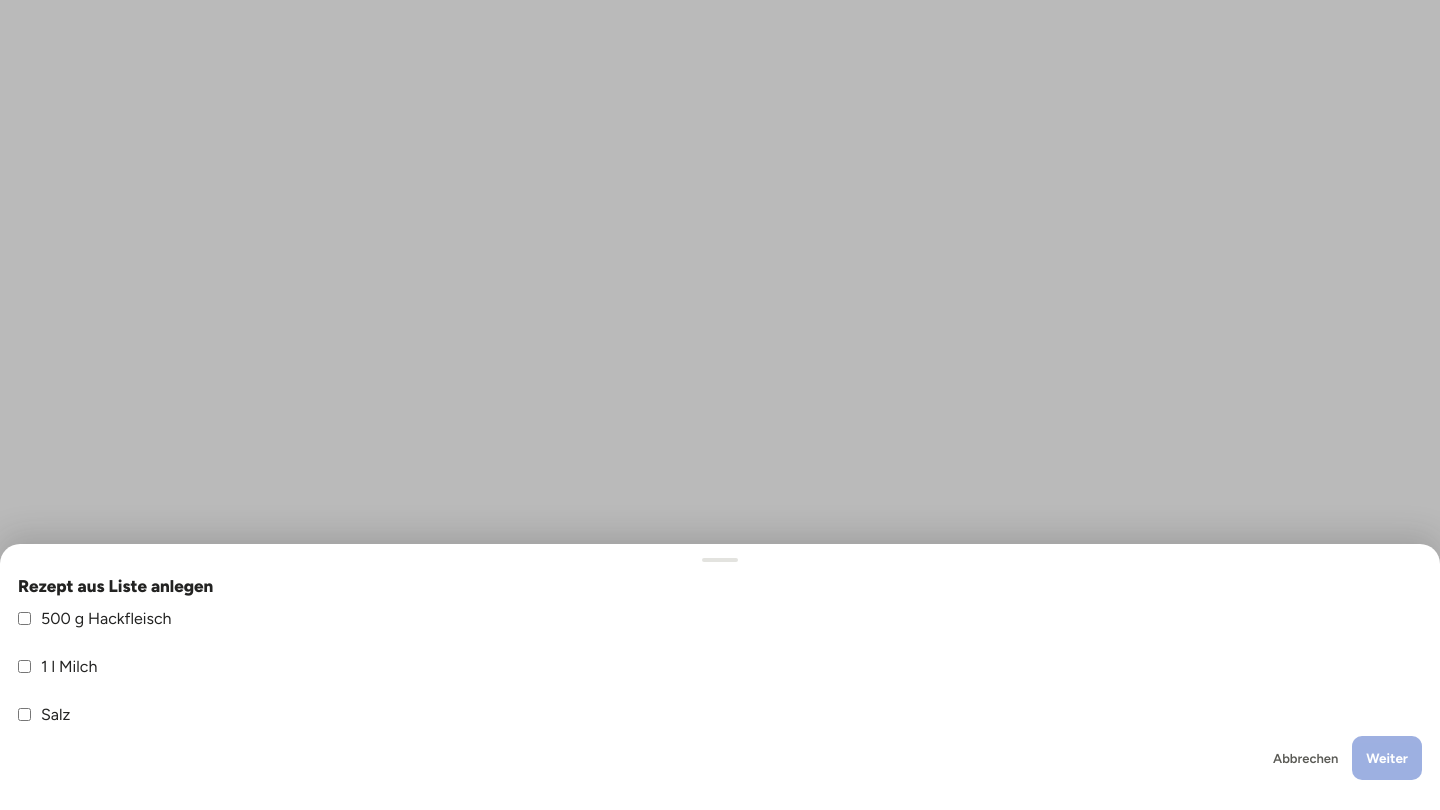
Test case: DeriveRecipeSheet › keeps „Weiter“ disabled until something is ticked
Expected: the button "Weiter" is disabled, [1352,736,1422,780]
Click the checkbox labelled "1 l Milch": (24, 666) [18,660,31,672]
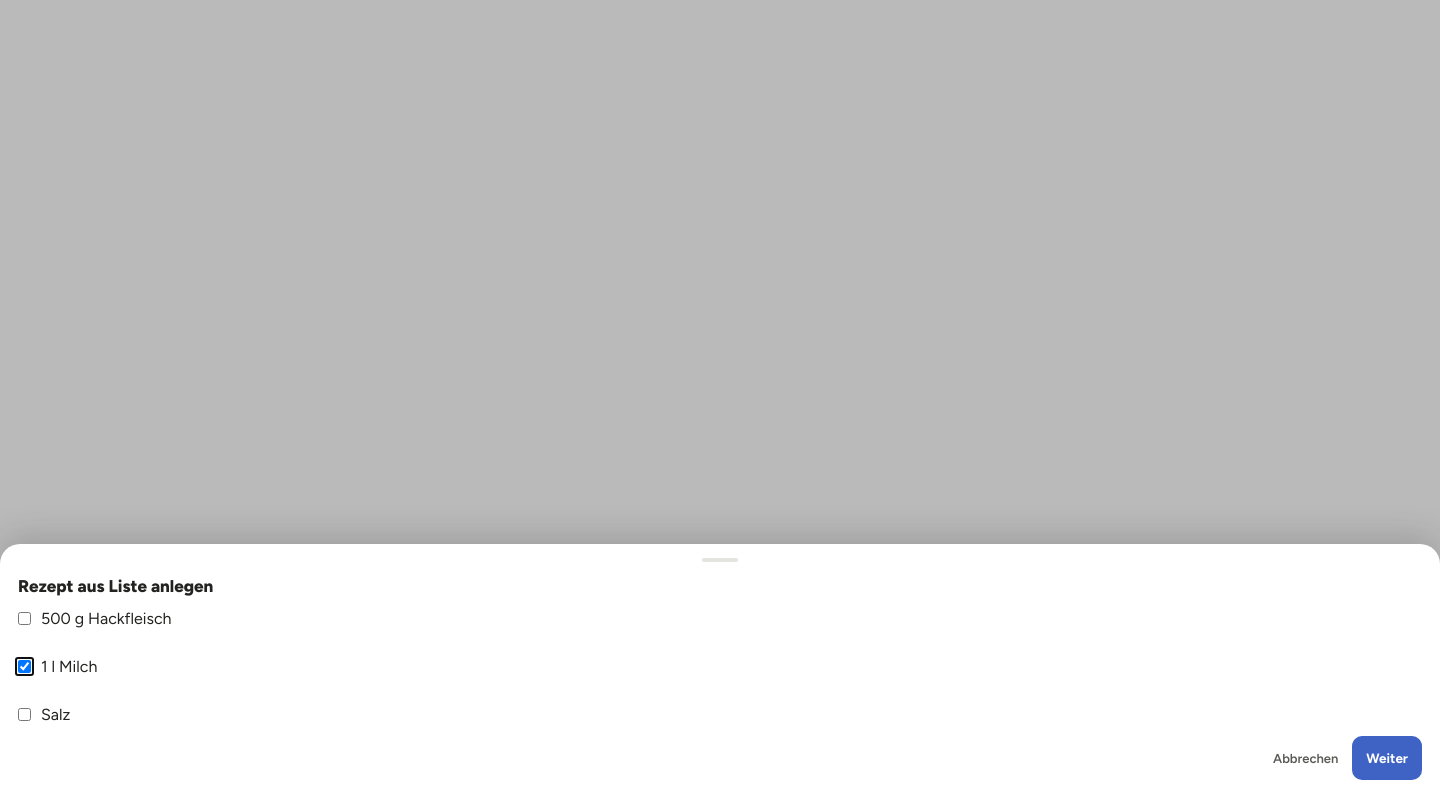
Now the button "Weiter" is enabled, box [1352,736,1422,780]
